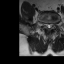CCS_normal: (48, 21, 50, 29)
LFS_stenosis: (52, 21, 54, 27)
LLS_normal: (50, 21, 52, 29)
RFS_normal: (43, 21, 45, 27)
RLS_normal: (45, 21, 48, 28)
